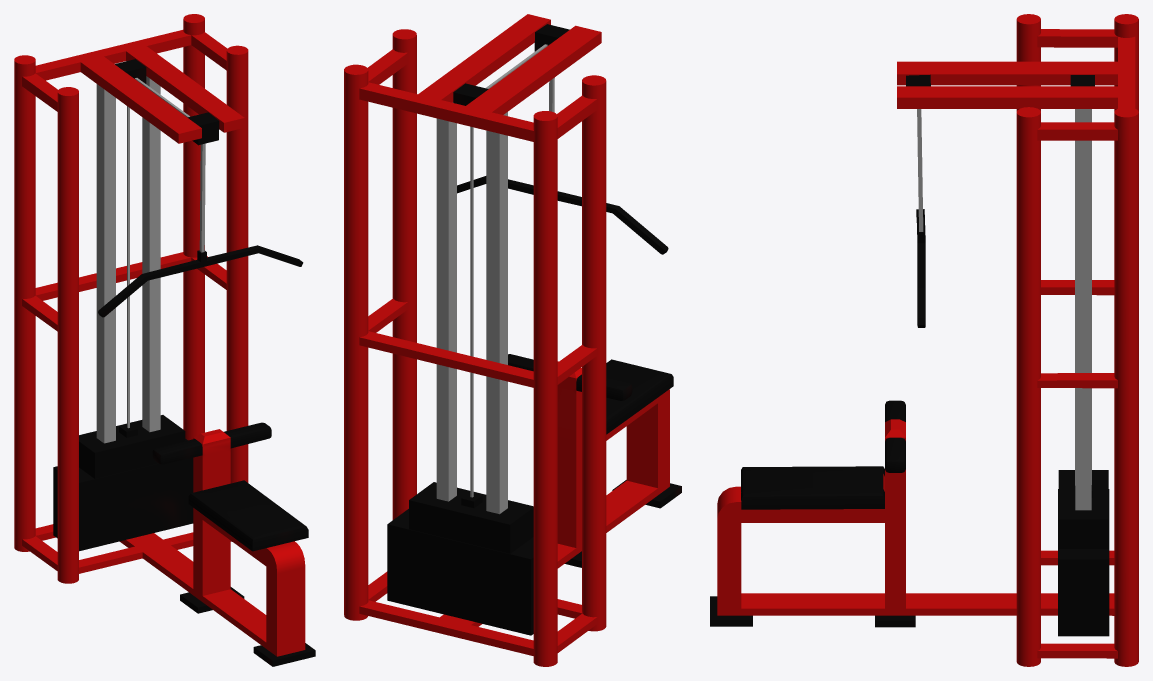
The model's file is lat_pulldown_machine.fbx.
The picture shows the model from 3 angles, left to right: view 1: azimuth 30°, elevation 25°; view 2: azimuth 150°, elevation 25°; view 3: azimuth 270°, elevation 25°; orthographic projection. The views are drawn at different scales.
Parts seen in each view (by area): view 1: Cylinder; view 2: Cylinder; view 3: Cylinder.
Part boxes in pixels (left/top/right/bottom): Cylinder: left=14, top=14, right=315, bottom=666; Cylinder: left=344, top=14, right=681, bottom=666; Cylinder: left=710, top=14, right=1138, bottom=666.
Size of the model in its own units: 2154 by 4944 by 3495.
